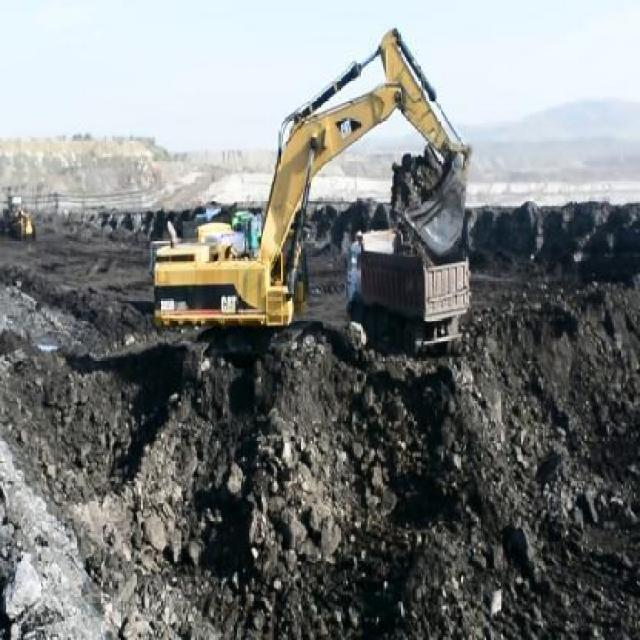Dump Truck: (344, 232, 465, 350)
Excavator: (144, 28, 467, 344)
